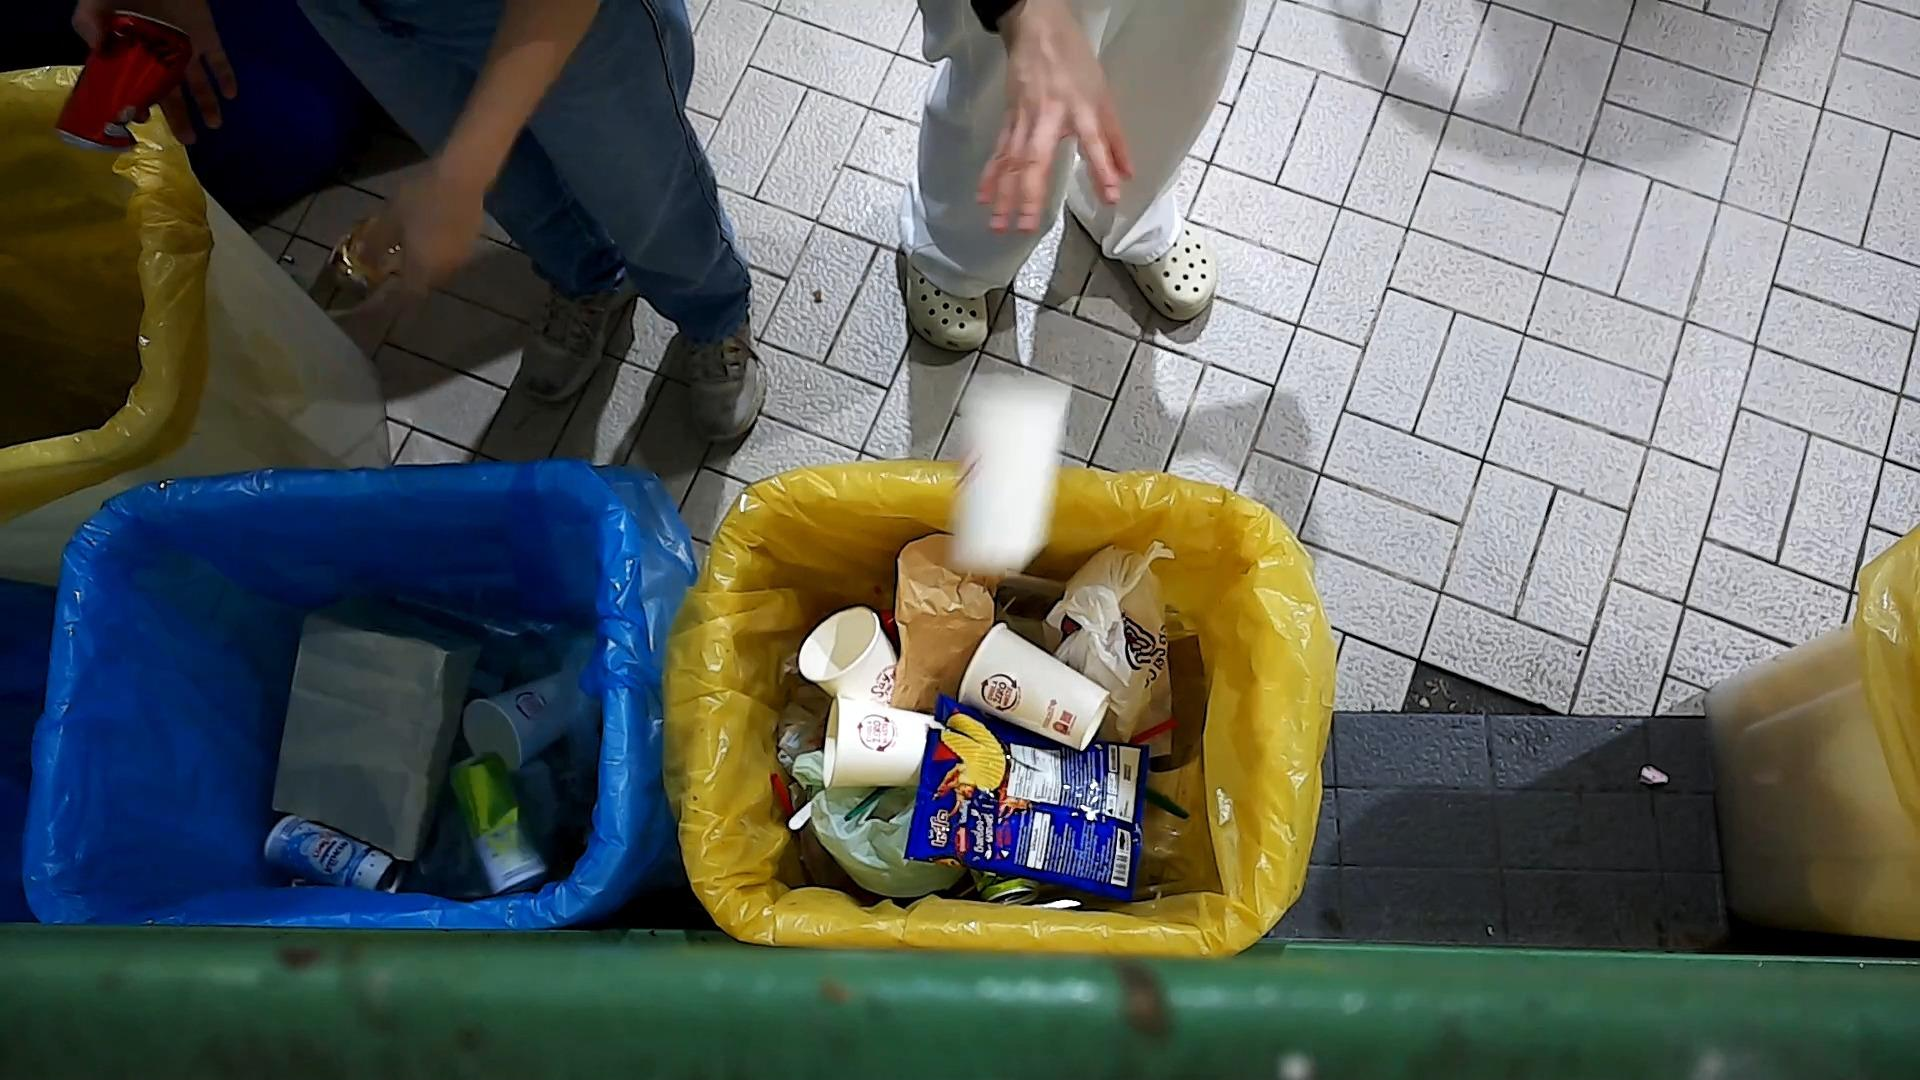can: (51, 4, 202, 164), (443, 745, 556, 901), (261, 811, 409, 895)
filled plastic bag: (1038, 538, 1179, 765), (789, 745, 973, 901)
paper bag: (266, 597, 489, 866), (889, 531, 1011, 717)
snack packaging: (902, 688, 1151, 903)
zero waste cup: (943, 368, 1079, 576), (955, 618, 1114, 760), (458, 665, 579, 781), (820, 691, 934, 794), (795, 603, 899, 707)
